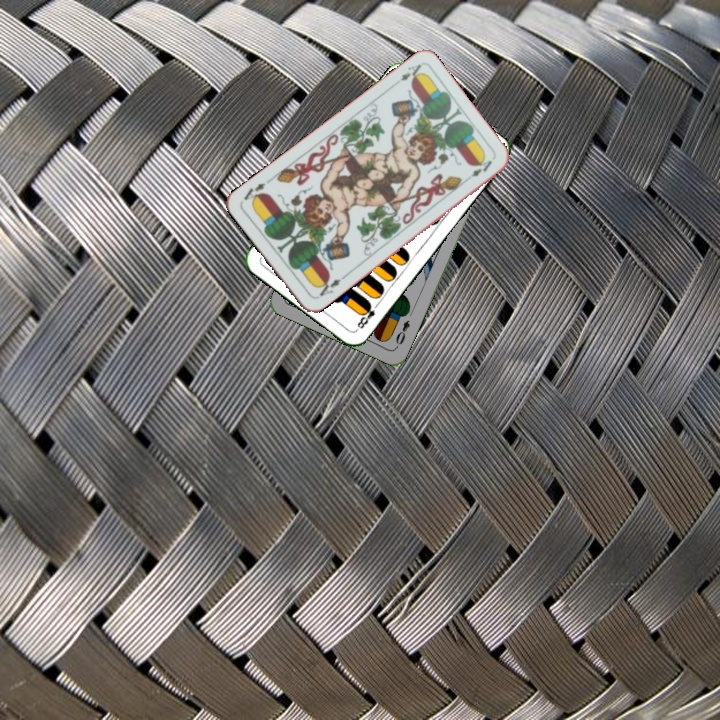E8: (352, 298, 382, 333)
EA: (388, 60, 425, 89), (313, 272, 348, 301)
EO: (392, 316, 412, 350)
